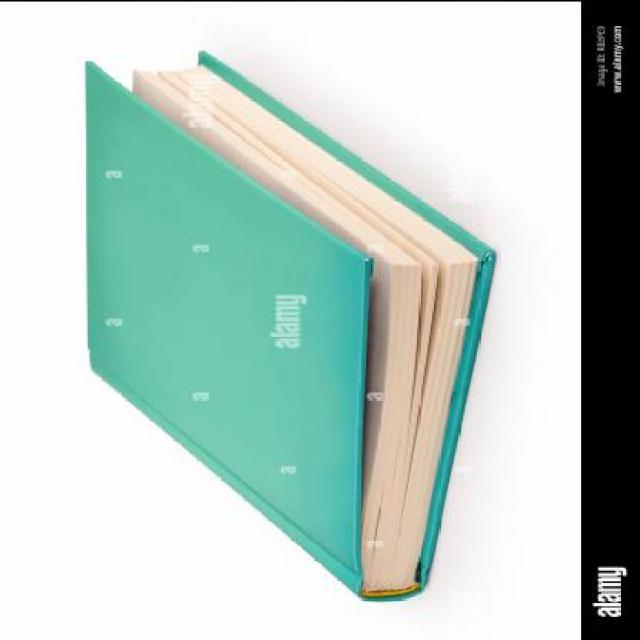book: (49, 24, 508, 625)
